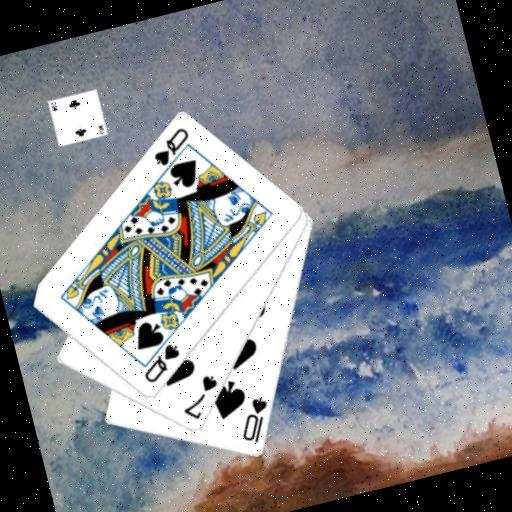10S: (231, 393, 279, 449)
7S: (173, 370, 228, 425)
QS: (134, 339, 187, 387), (145, 124, 197, 171)
